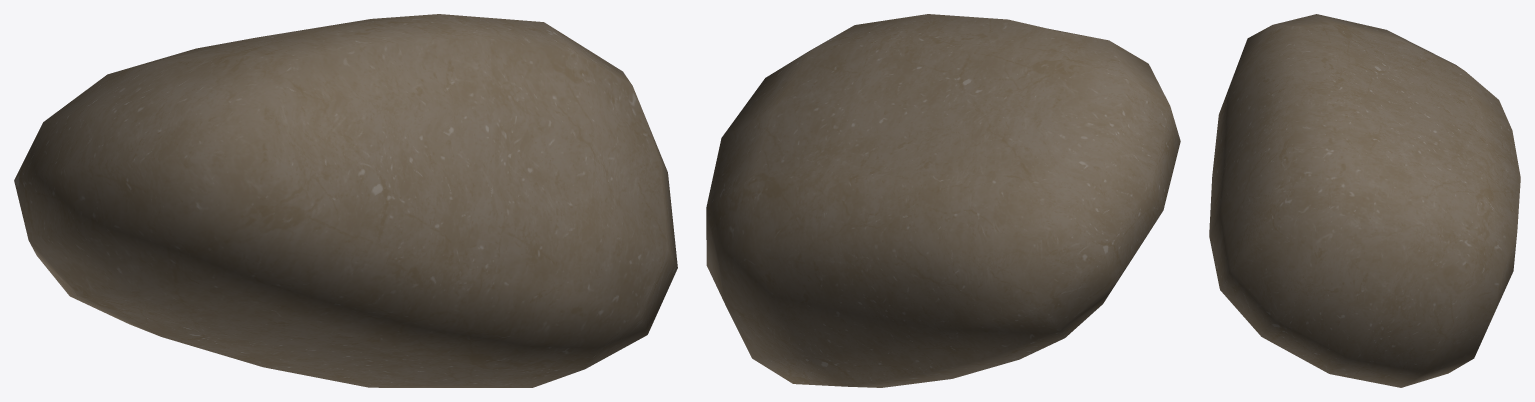
Rendered from Rocapulir.fbx.
The picture shows the model from 3 angles, left to right: view 1: azimuth 30°, elevation 25°; view 2: azimuth 150°, elevation 25°; view 3: azimuth 270°, elevation 25°; orthographic projection. The views are drawn at different scales.
Visible parts, largest first — view 1: RocaPulir; view 2: RocaPulir; view 3: RocaPulir.
Boxes of the visible parts, <box> form: RocaPulir: <box>14,14,677,387</box>; RocaPulir: <box>706,14,1180,387</box>; RocaPulir: <box>1209,14,1520,387</box>.
Size of the model in its own units: 42.61 by 32.12 by 32.62.
1 material, 1 textured.
